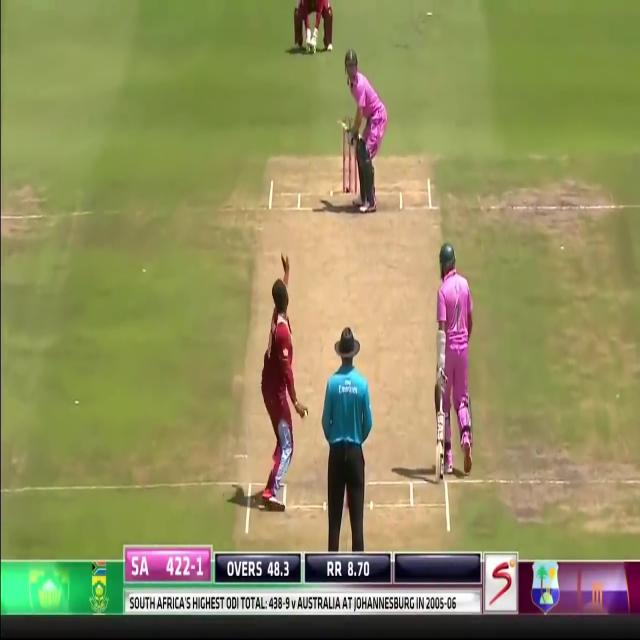Ball: (435, 245, 473, 479), (343, 48, 387, 213)
Fielder: (259, 250, 301, 504), (292, 0, 334, 52)
Umpire: (323, 332, 372, 546)
